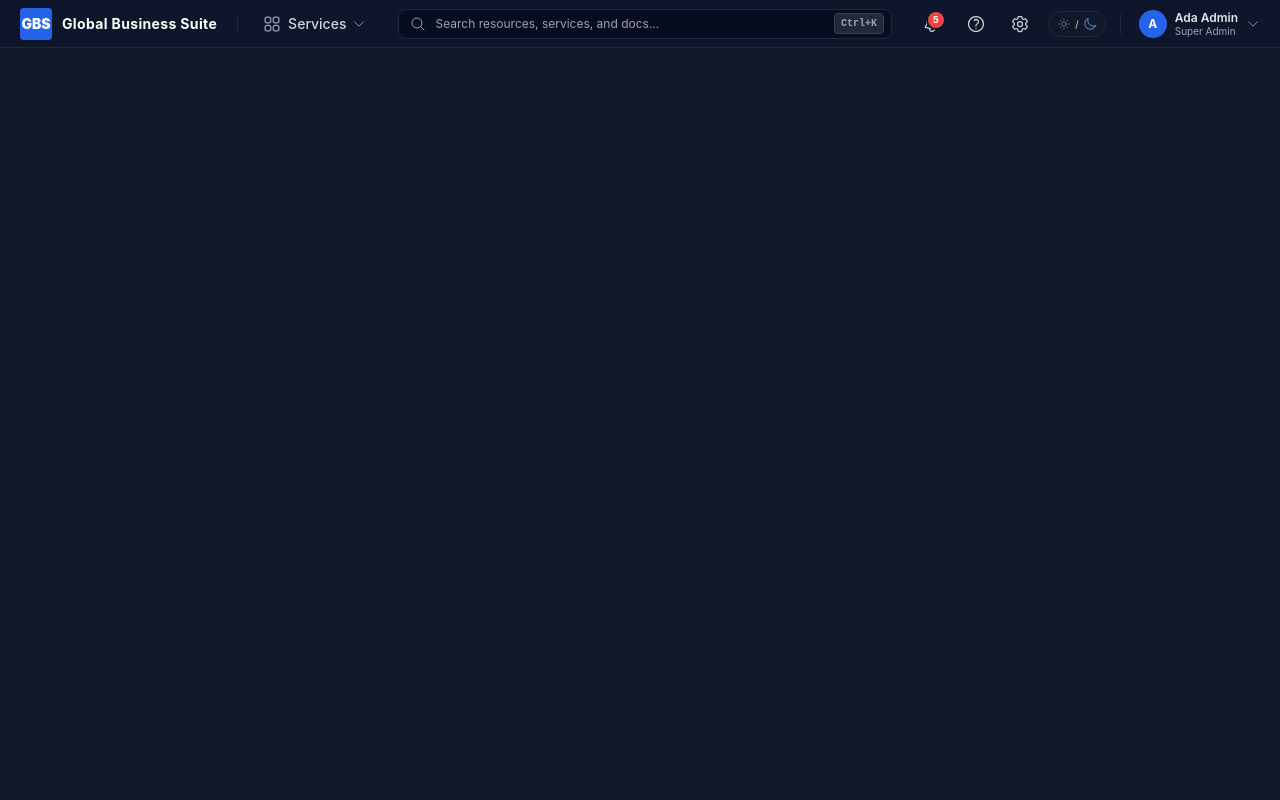
it: TopHeader › toggles the persisted theme from the header
The width and height of the screenshot is (1280, 800).
What coordinates should you click on to do the following:
click the button named "Switch to light theme"
I would click on:
 (1077, 24)
Its box is x1=1048 y1=10 x2=1106 y2=36.
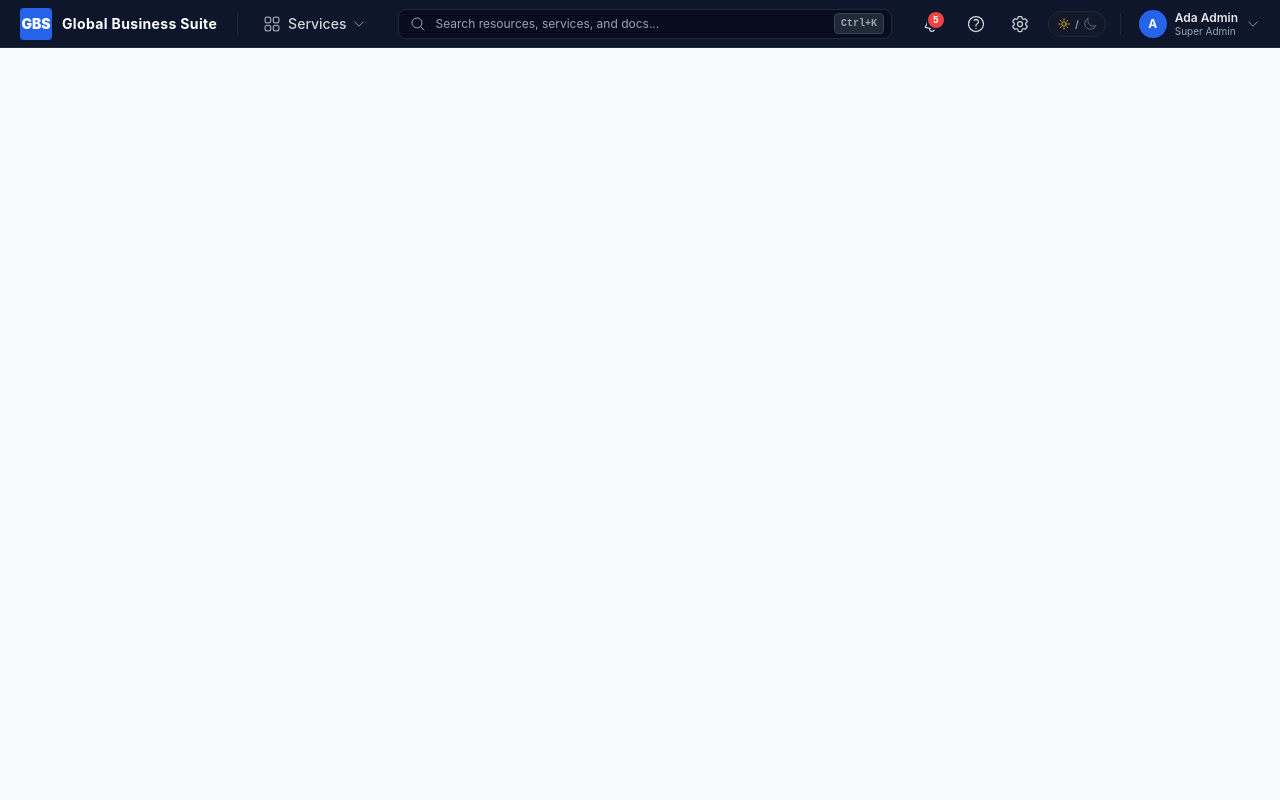
Result: the button named "Switch to dark theme" is shown at x1=1048 y1=10 x2=1106 y2=36
